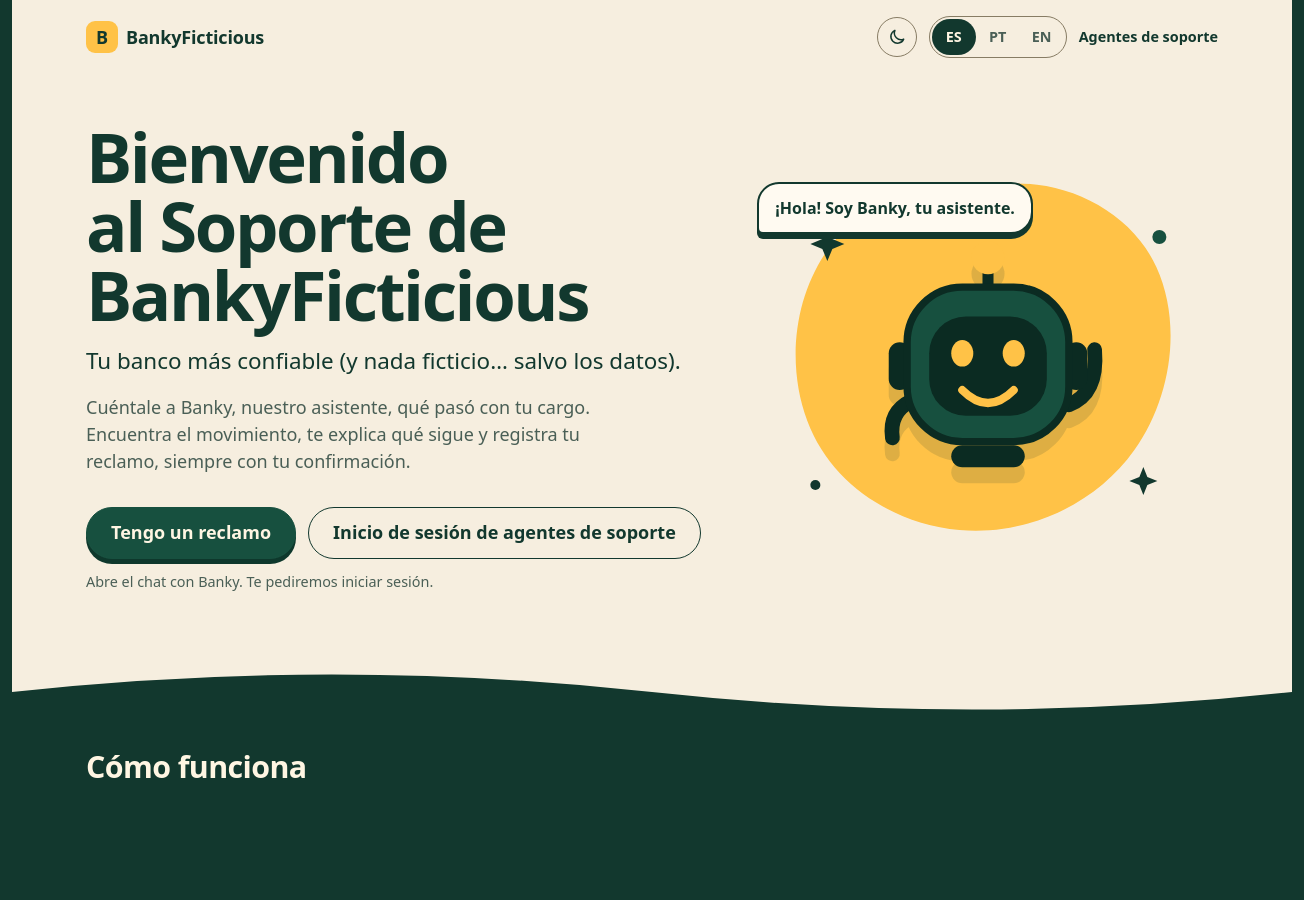
it: LandingPage › switches to English and formats the document language as en-US
The width and height of the screenshot is (1304, 900).
Click the button named "English".
click(1042, 37)  # box [1020,19,1064,55]
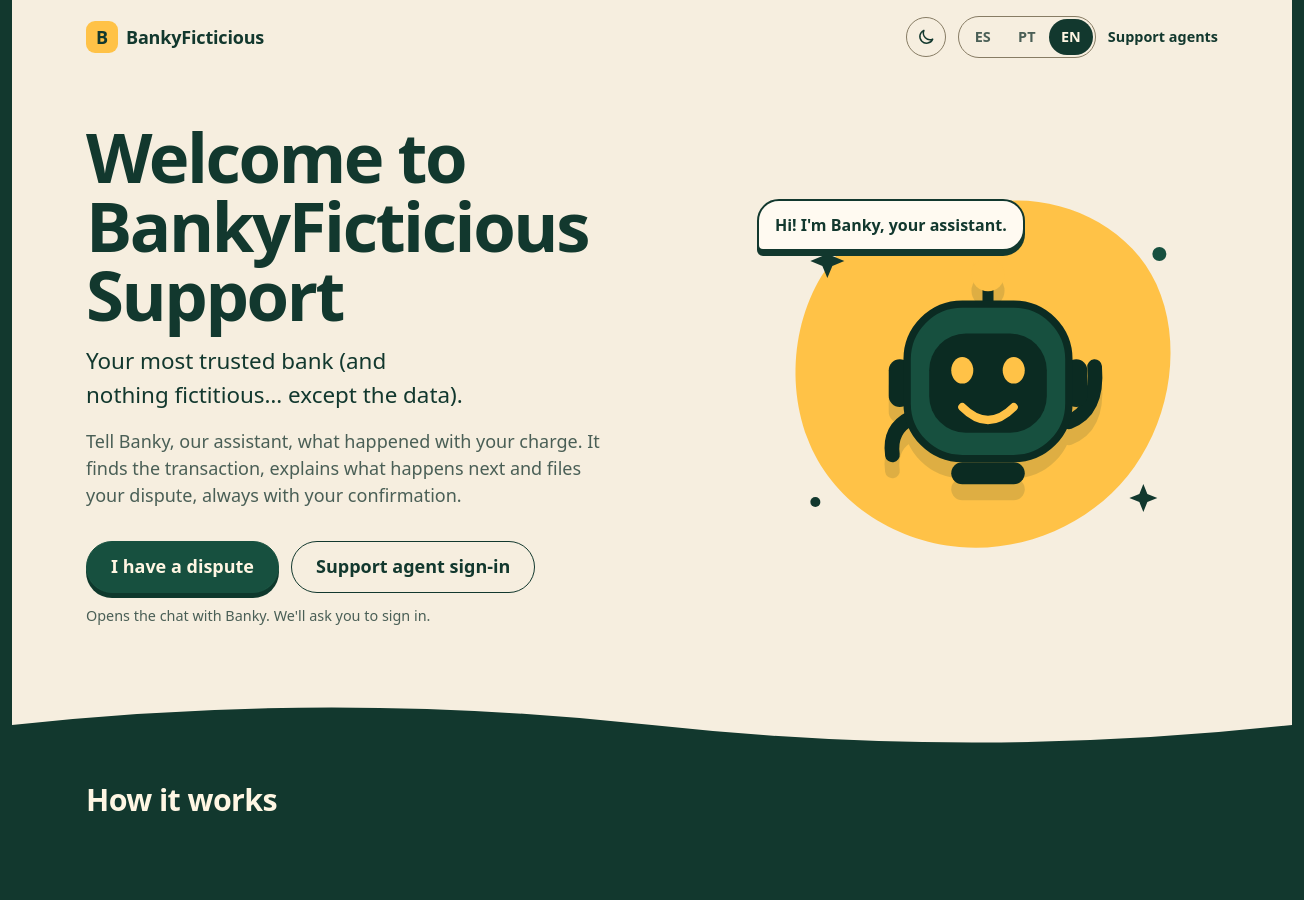
Result: the link "Support agent sign-in" is shown at [291,541,535,593]
